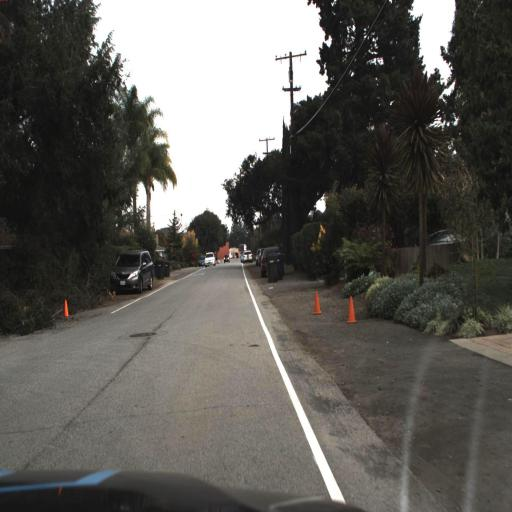car: (110, 246, 153, 298), (258, 242, 284, 279), (201, 249, 217, 270)
